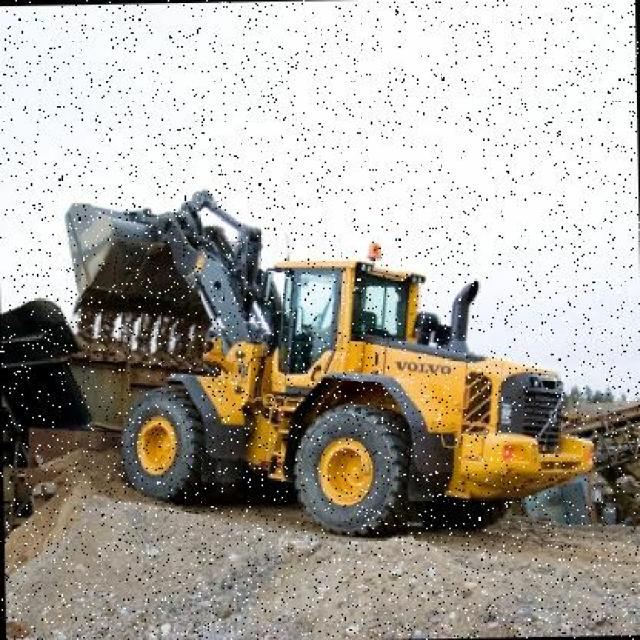buldozerpayloadergrader: (57, 182, 603, 566)
